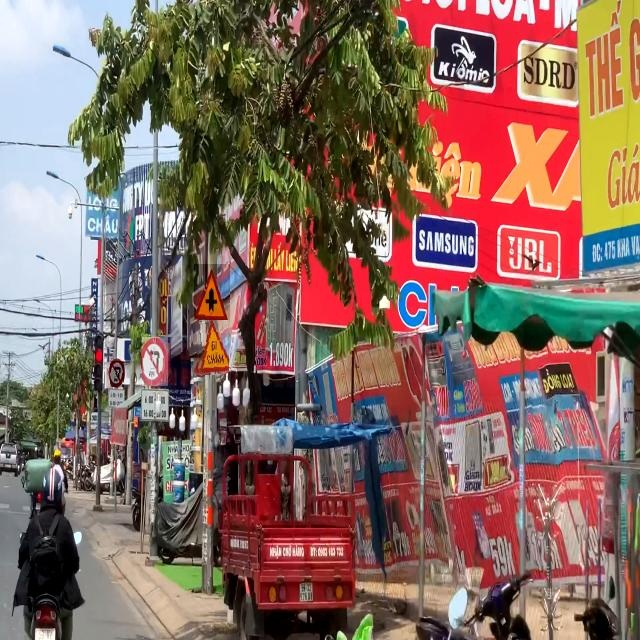bien_cam: (194, 264, 230, 323), (193, 321, 229, 376), (142, 337, 168, 386), (110, 361, 124, 387)
